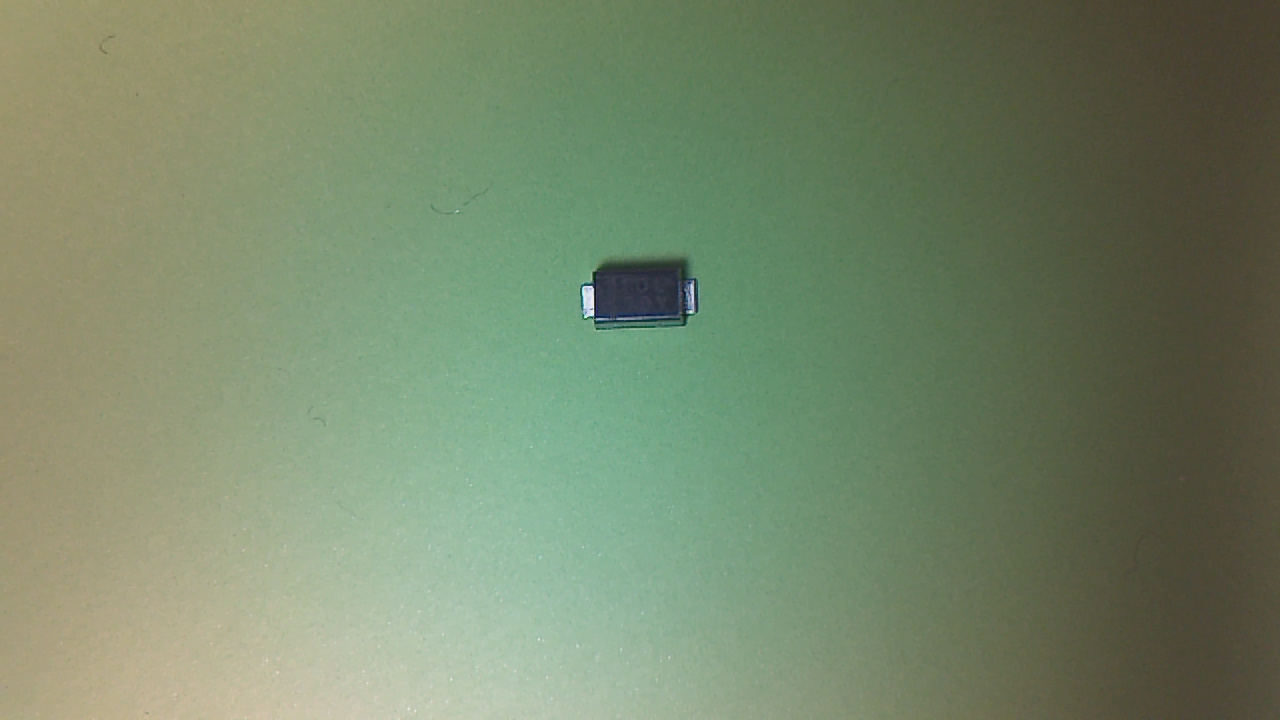Diode: (589, 274, 708, 349)
